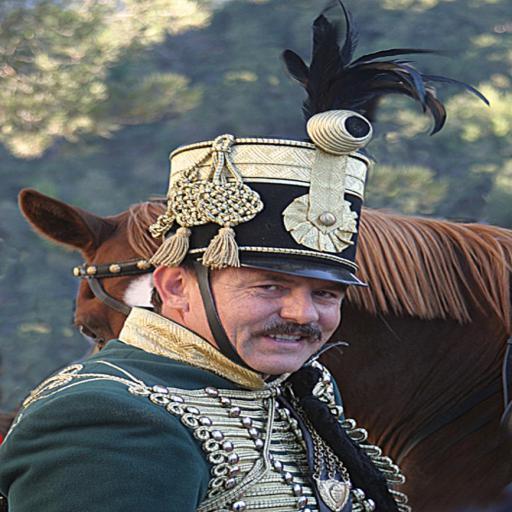horse: (14, 186, 508, 508)
